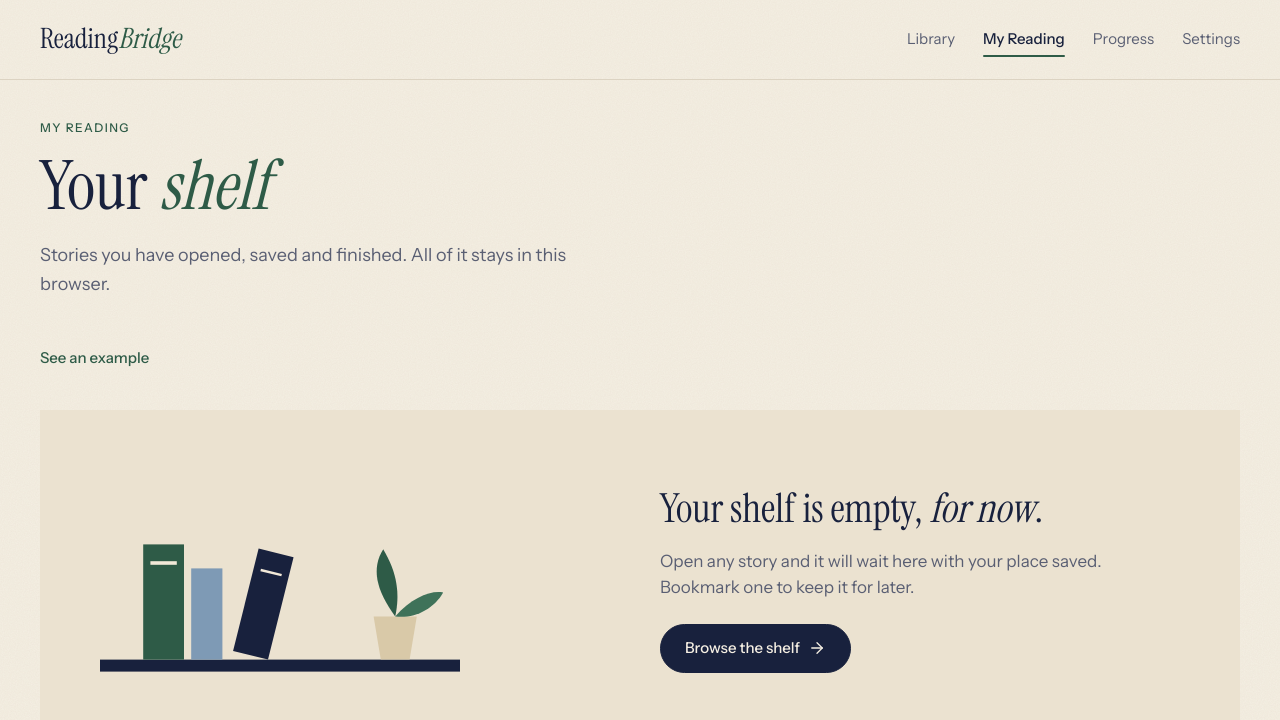
Test case: My Reading › shows an empty shelf, and a labelled example on request
Expected: the heading "Your shelf is empty, for now." is shown, [660,482,1043,534]
Click the button "See an example": (95, 359) [40,347,149,370]
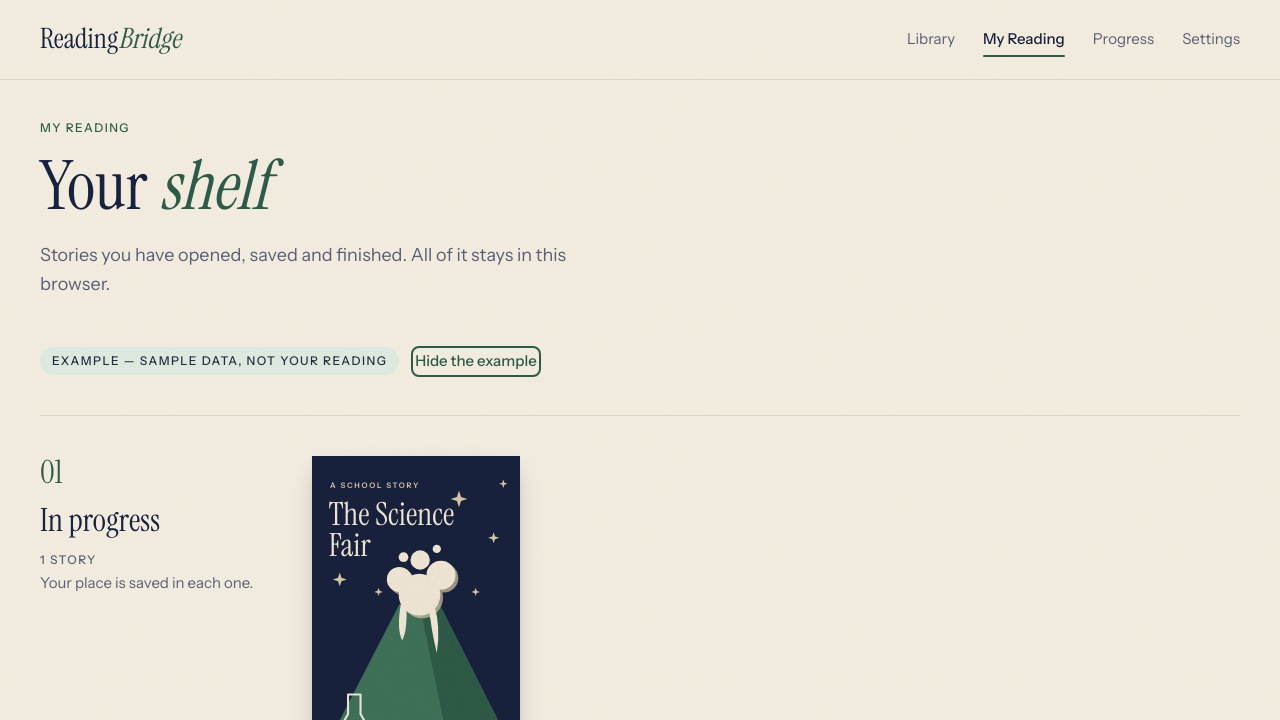
Result: the message shows "sample data, not your reading" at [52,353,387,368]
Result: the heading "In progress" is shown at [40,499,160,541]
